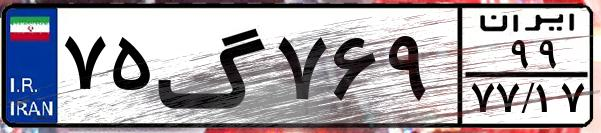1: (535, 70, 560, 125)
5: (110, 28, 156, 98)
6: (330, 28, 385, 110)
7: (270, 28, 330, 110), (57, 26, 110, 100), (560, 70, 590, 125), (470, 70, 495, 125), (495, 70, 520, 125)
9: (385, 28, 445, 110), (537, 27, 568, 80), (508, 27, 537, 80)
گ: (156, 12, 270, 120)
